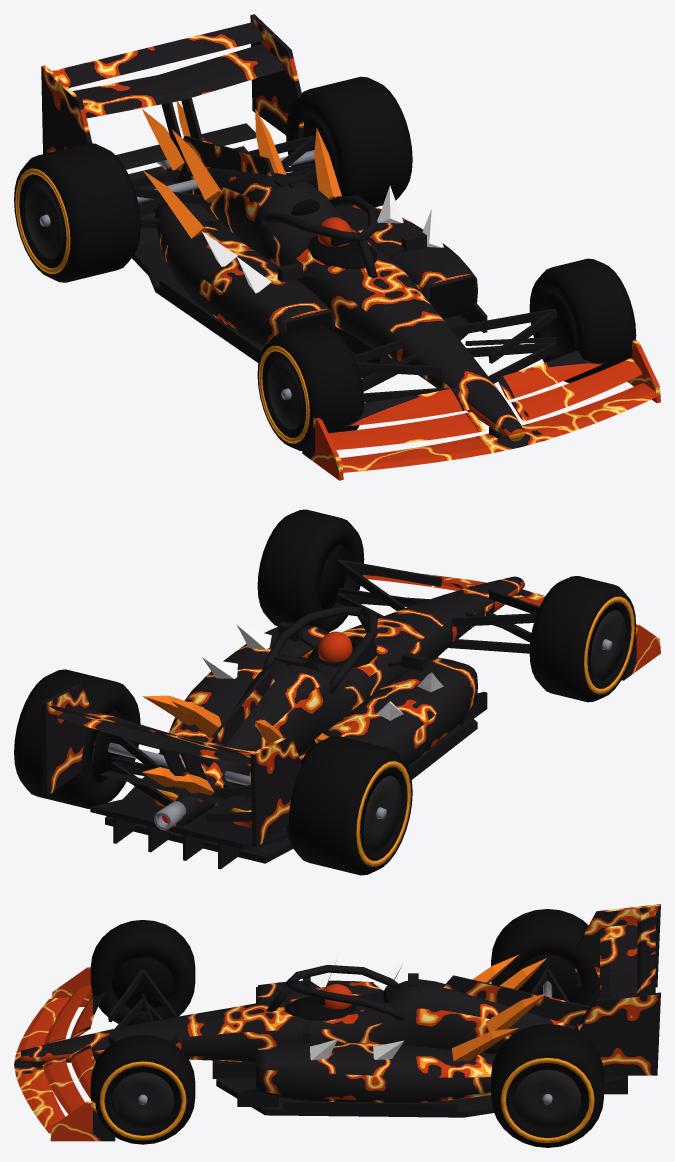
The model's file is volcano_b.fbx.
3 views of the same model, one above another, from view 1: azimuth 30°, elevation 25°; view 2: azimuth 150°, elevation 25°; view 3: azimuth 270°, elevation 25° (orthographic). The views are drawn at different scales.
Parts seen in each view (by area): view 1: Body, Trim, Wheel_RL, Wheel_RR, Wheel_FL, Wheel_FR, Glow, Acc; view 2: Body, Trim, Wheel_RL, Wheel_FL, Wheel_FR, Wheel_RR, Glow, Acc; view 3: Body, Trim, Wheel_RR, Wheel_FR, Wheel_FL, Wheel_RL, Glow, Acc.
Boxes of the visible parts, x1,y1,x2,y2 form: Body: (41, 14, 660, 480); Trim: (115, 87, 557, 439); Wheel_RL: (14, 143, 140, 282); Wheel_RR: (286, 76, 412, 207); Wheel_FL: (257, 325, 364, 450); Wheel_FR: (529, 258, 636, 383); Glow: (142, 101, 341, 238); Acc: (202, 185, 443, 293); Body: (41, 573, 660, 847); Trim: (90, 559, 539, 869); Wheel_RL: (286, 735, 412, 875); Wheel_FL: (529, 576, 636, 702); Wheel_FR: (257, 509, 364, 632); Wheel_RR: (14, 669, 140, 808); Glow: (142, 695, 328, 832); Acc: (202, 624, 443, 720); Body: (14, 904, 660, 1141); Trim: (31, 965, 627, 1117); Wheel_RR: (491, 1024, 603, 1147); Wheel_FR: (90, 1035, 195, 1144); Wheel_FL: (90, 920, 195, 1026); Wheel_RL: (491, 909, 598, 1004); Glow: (451, 954, 582, 1061); Acc: (310, 957, 404, 1060).
Bounding box in the file's own units: 9.81 × 4.13 × 18.55.
4 materials, 1 textured.
